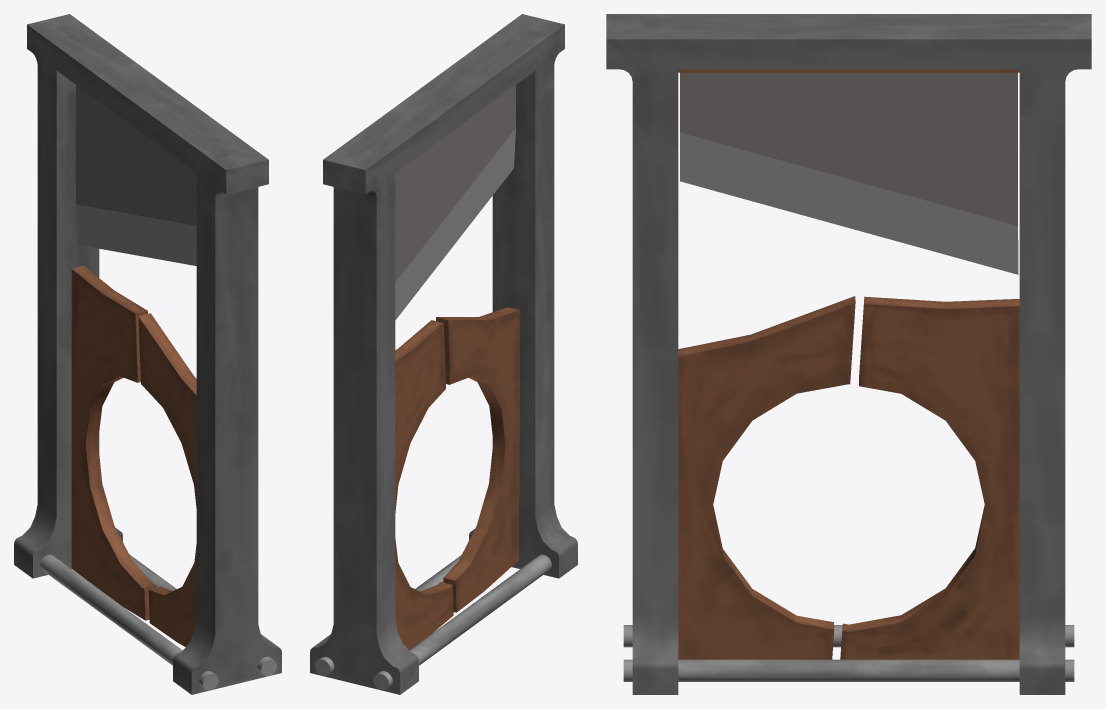
The model's file is guillotine.glb.
3 views of the same model, side by side, from view 1: azimuth 30°, elevation 25°; view 2: azimuth 150°, elevation 25°; view 3: azimuth 270°, elevation 25° (orthographic). The views are drawn at different scales.
Visible parts, largest first — view 1: Frame, Blade; view 2: Frame, Blade; view 3: Frame, Blade.
Boxes of the visible parts, box(x1,y1,x2,y2) form: Frame: box(14, 14, 281, 694); Blade: box(76, 85, 196, 265); Frame: box(310, 14, 577, 694); Blade: box(395, 85, 515, 320); Frame: box(606, 14, 1091, 694); Blade: box(680, 72, 1018, 274).
Bounding box in the file's own units: 1.89 × 10.6 × 7.25.
2 materials, 2 textured.
